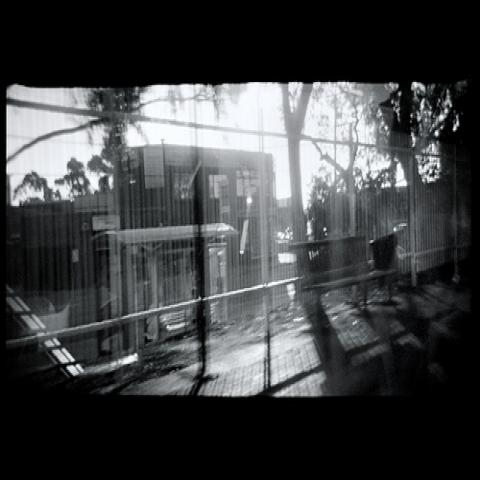car: (394, 222, 408, 241)
